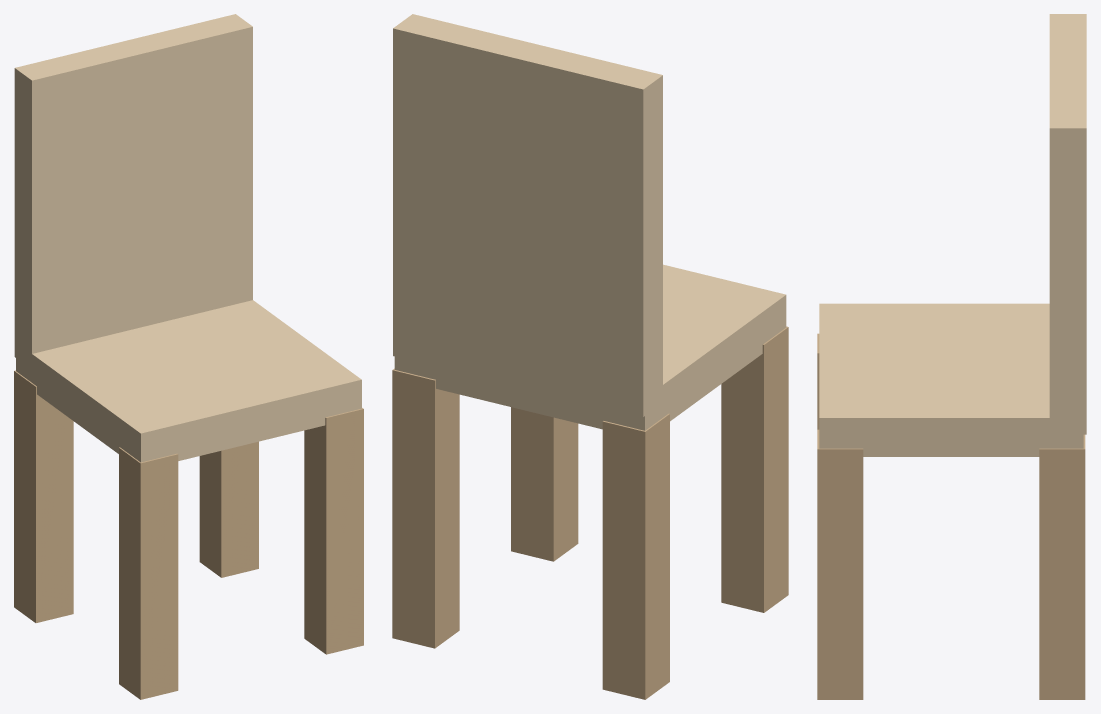
Rendered from dining_chair.glb.
3 renders of one model, left to right at view 1: azimuth 30°, elevation 25°; view 2: azimuth 150°, elevation 25°; view 3: azimuth 270°, elevation 25°, orthographic. The views are drawn at different scales.
Visible parts, largest first — view 1: dining_chair_oak_light_1, dining_chair_oak_light_0, dining_chair_oak_3, dining_chair_oak_5, dining_chair_oak_2, dining_chair_oak_4; view 2: dining_chair_oak_light_1, dining_chair_oak_2, dining_chair_oak_light_0, dining_chair_oak_4, dining_chair_oak_3, dining_chair_oak_5; view 3: dining_chair_oak_light_0, dining_chair_oak_light_1, dining_chair_oak_5, dining_chair_oak_4.
Boxes of the visible parts, x1=… form: dining_chair_oak_light_1: x1=14, y1=14, x2=252, y2=359; dining_chair_oak_light_0: x1=16, y1=300, x2=361, y2=462; dining_chair_oak_3: x1=119, y1=447, x2=178, y2=699; dining_chair_oak_5: x1=304, y1=408, x2=363, y2=654; dining_chair_oak_2: x1=14, y1=370, x2=73, y2=622; dining_chair_oak_4: x1=199, y1=441, x2=258, y2=577; dining_chair_oak_light_1: x1=393, y1=14, x2=662, y2=416; dining_chair_oak_2: x1=602, y1=413, x2=669, y2=699; dining_chair_oak_light_0: x1=394, y1=264, x2=786, y2=430; dining_chair_oak_4: x1=392, y1=368, x2=459, y2=648; dining_chair_oak_3: x1=721, y1=326, x2=788, y2=612; dining_chair_oak_5: x1=511, y1=407, x2=578, y2=561; dining_chair_oak_light_0: x1=819, y1=303, x2=1083, y2=456; dining_chair_oak_light_1: x1=1049, y1=14, x2=1086, y2=434; dining_chair_oak_5: x1=817, y1=429, x2=863, y2=699; dining_chair_oak_4: x1=1039, y1=434, x2=1085, y2=699.
Size of the model in its own units: 0.4446 by 1.02 by 0.4381.
